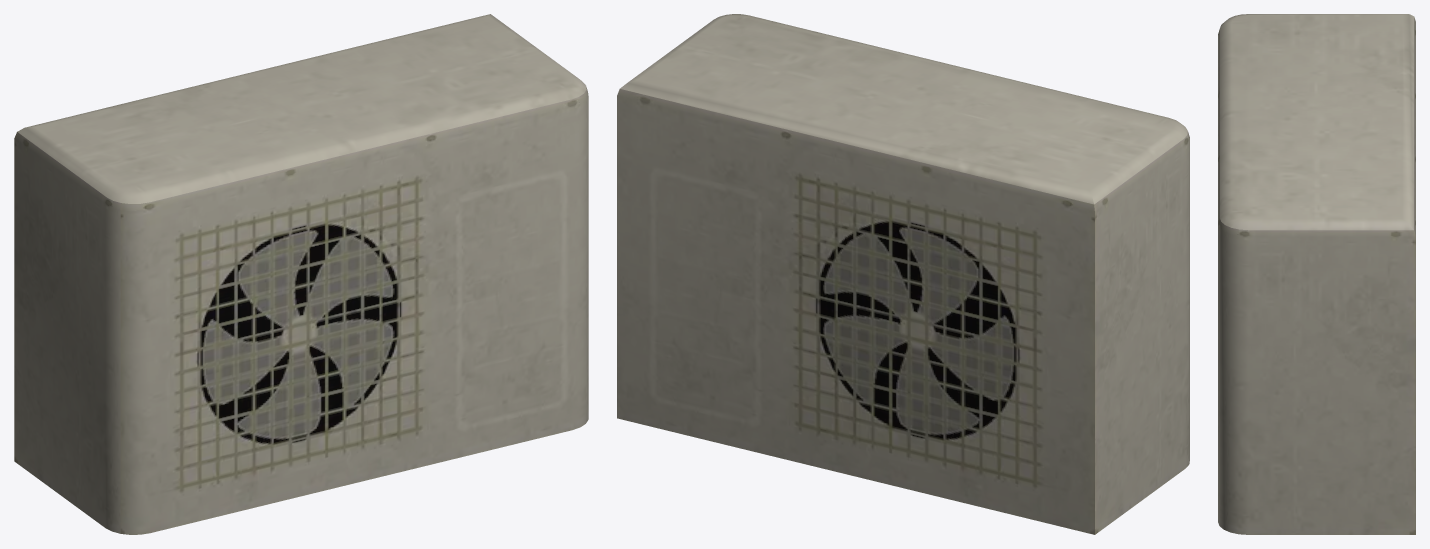
File: Prop_ACUnit.glb
3 views of the same model, side by side, from view 1: azimuth 30°, elevation 25°; view 2: azimuth 150°, elevation 25°; view 3: azimuth 270°, elevation 25° (orthographic). The views are drawn at different scales.
Parts seen in each view (by area): view 1: Prop_ACUnit; view 2: Prop_ACUnit; view 3: Prop_ACUnit.
Boxes of the visible parts, x1=… form: Prop_ACUnit: x1=14, y1=14, x2=588, y2=534; Prop_ACUnit: x1=617, y1=14, x2=1189, y2=534; Prop_ACUnit: x1=1218, y1=14, x2=1415, y2=534.
Bounding box in the file's own units: 0.8932 × 0.6 × 0.3471.
Materials: 1 (1 with a texture image).
